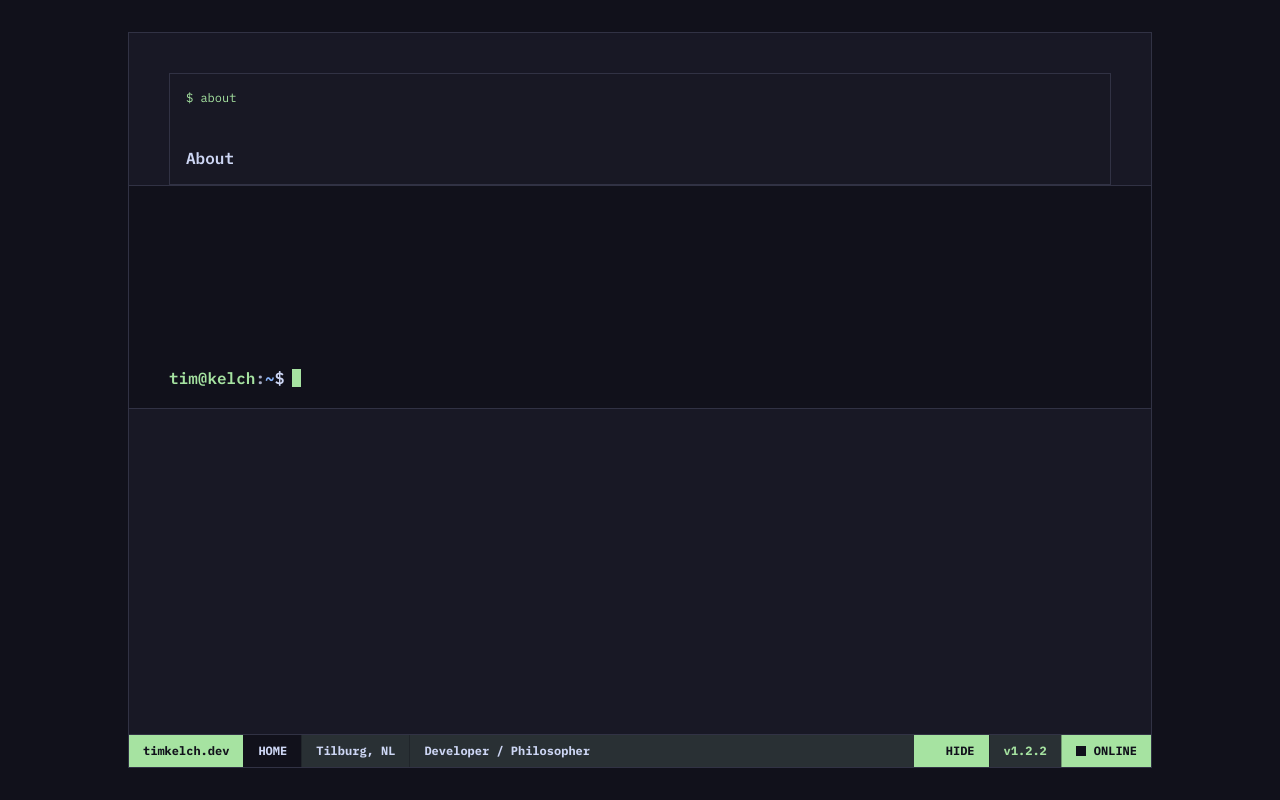
it: terminal interaction › does not route project slugs outside the projects page
This screenshot has width=1280, height=800.
Type "plan-your-chaos" into the field named "Terminal command".
click(702, 378); type("plan-your-chaos")  # box x1=292 y1=368 x2=1111 y2=388
Then press Enter
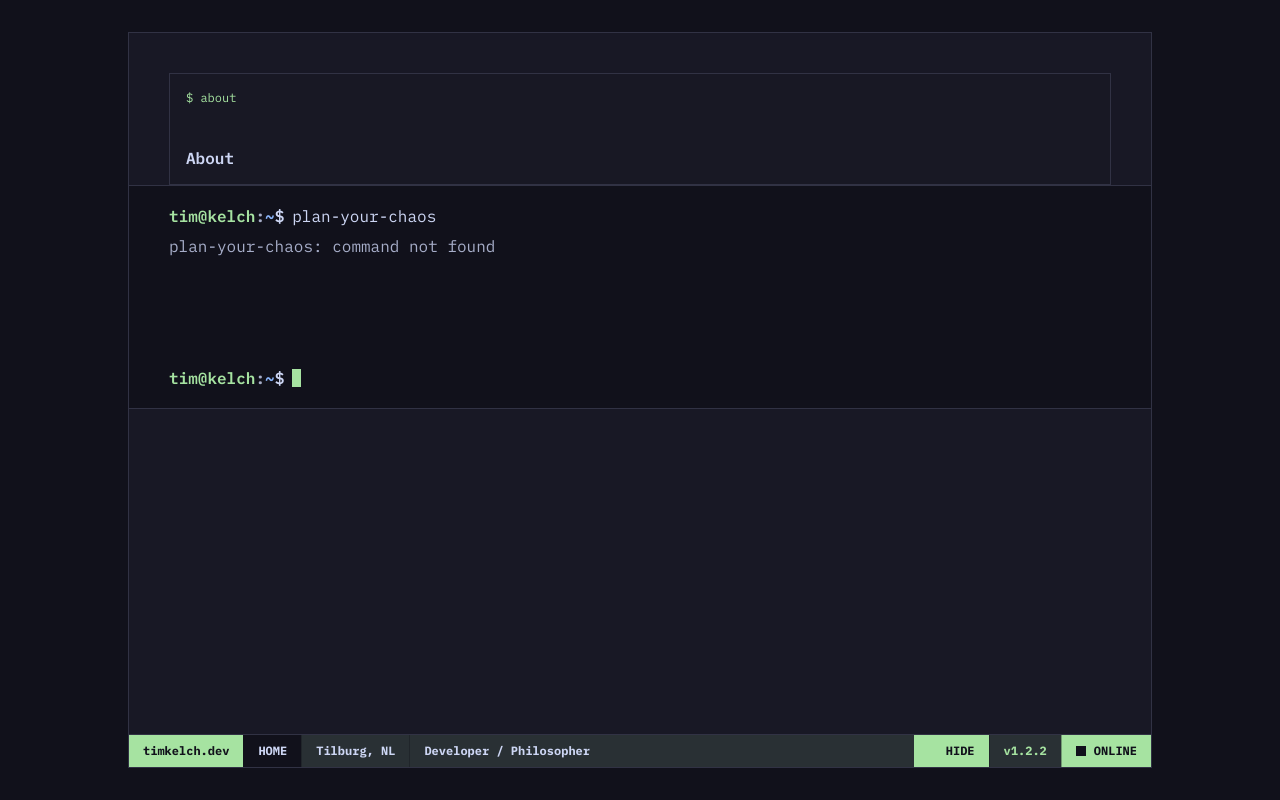
Expected: the text "plan-your-chaos: command not found" is shown, x1=169 y1=236 x2=495 y2=256
